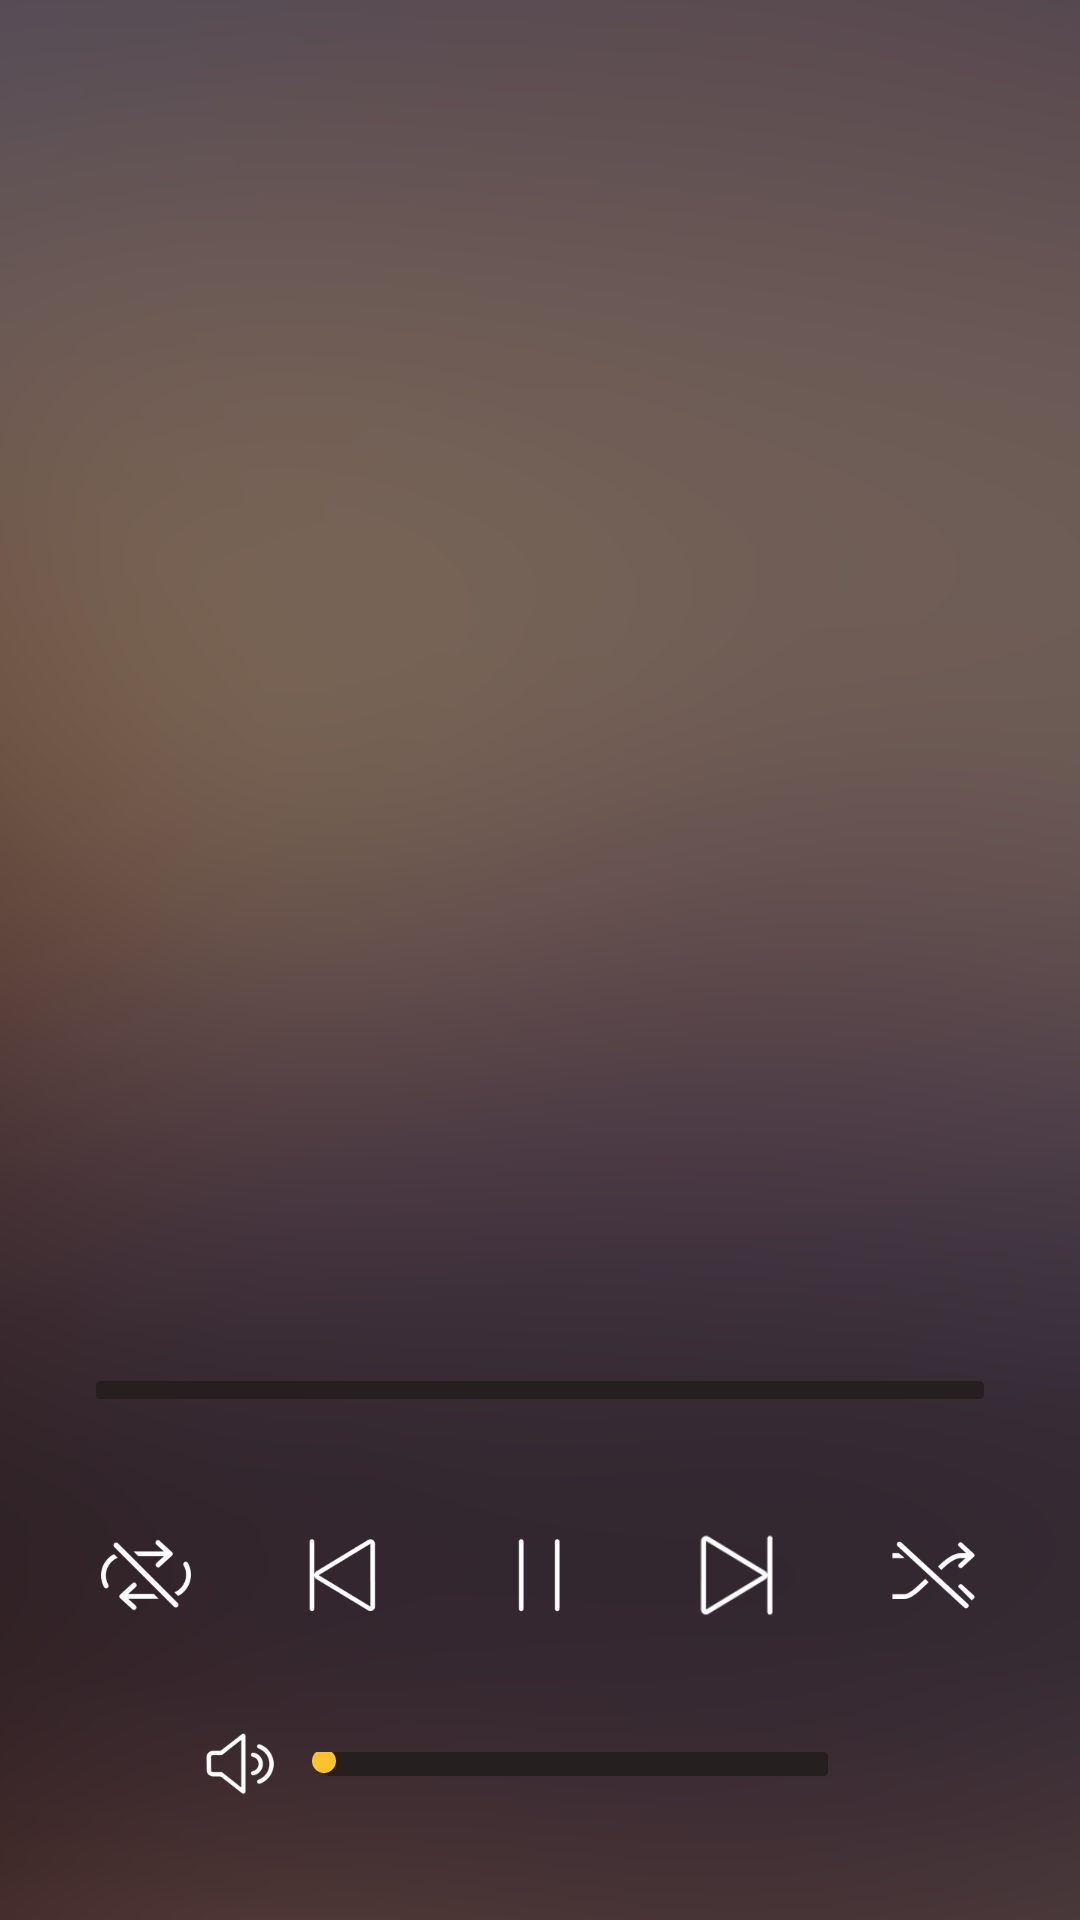

Icons on this 1080*1920 Android screen, each with its box as (x1, y1, x2, y2):
next: (700, 1535, 773, 1615)
no repeat: (101, 1540, 191, 1610)
no shuffle: (892, 1541, 975, 1609)
pause: (518, 1539, 560, 1611)
previous: (309, 1539, 376, 1611)
volume: (206, 1733, 274, 1794)
